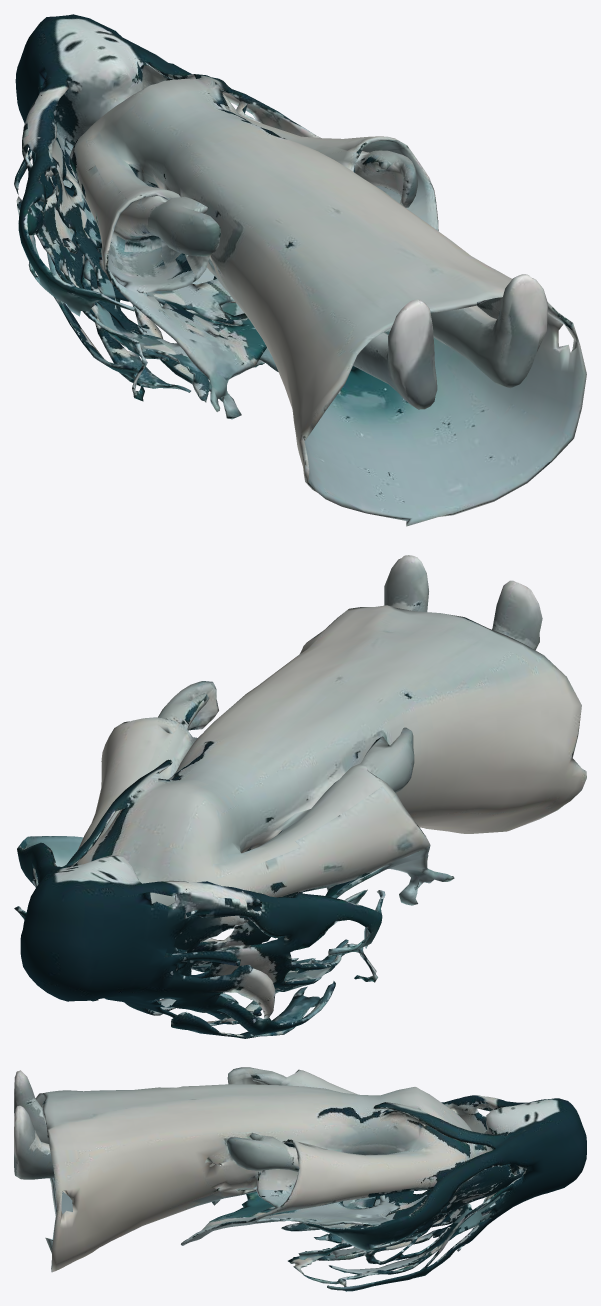
File: Yuki_Onna.glb
The picture shows the model from 3 angles, top to bottom: view 1: azimuth 30°, elevation 25°; view 2: azimuth 150°, elevation 25°; view 3: azimuth 270°, elevation 25°; orthographic projection. The views are drawn at different scales.
Parts seen in each view (by area): view 1: Retopo_yuki-onna_RemeshSrc; view 2: Retopo_yuki-onna_RemeshSrc; view 3: Retopo_yuki-onna_RemeshSrc.
Boxes of the visible parts, x1,y1,x2,y2 form: Retopo_yuki-onna_RemeshSrc: (14, 14, 586, 526); Retopo_yuki-onna_RemeshSrc: (14, 555, 586, 1038); Retopo_yuki-onna_RemeshSrc: (14, 1067, 586, 1291).
Bounding box in the file's own units: 0.9168 × 0.6742 × 1.96.
Materials: 1 (1 with a texture image).
